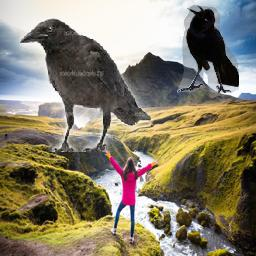Crow: (21, 18, 152, 152), (177, 5, 239, 93)
